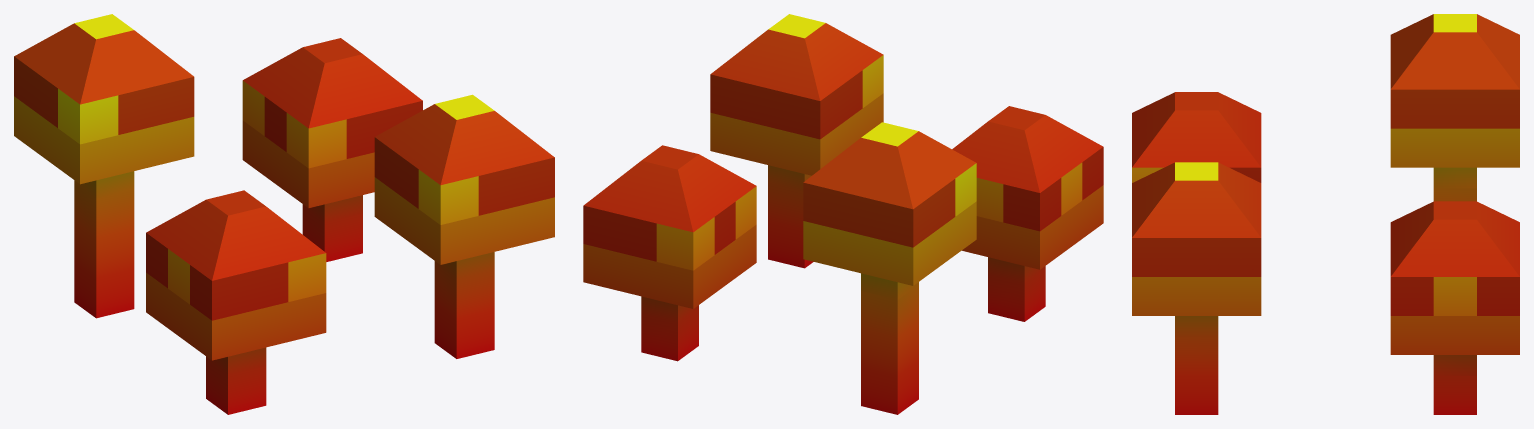
Rendered from spring_landing_voxel.fbx.
3 views of the same model, side by side, from view 1: azimuth 30°, elevation 25°; view 2: azimuth 150°, elevation 25°; view 3: azimuth 270°, elevation 25° (orthographic). The views are drawn at different scales.
Visible parts, largest first — view 1: Marker3, Marker0, Marker2, Marker1; view 2: Marker3, Marker1, Marker0, Marker2; view 3: Marker0, Marker1, Marker3, Marker2.
Boxes of the visible parts, x1,y1,x2,y2 form: Marker3: (14, 14, 194, 318); Marker0: (374, 94, 554, 358); Marker2: (146, 190, 326, 414); Marker1: (242, 38, 422, 261); Marker3: (803, 122, 976, 414); Marker1: (583, 145, 756, 361); Marker0: (710, 14, 883, 268); Marker2: (952, 106, 1103, 321); Marker0: (1132, 162, 1261, 414); Marker1: (1390, 201, 1519, 414); Marker3: (1390, 14, 1519, 201); Marker2: (1132, 92, 1261, 182).
Bounding box in the file's own units: 0.9 × 0.7 × 0.9.
